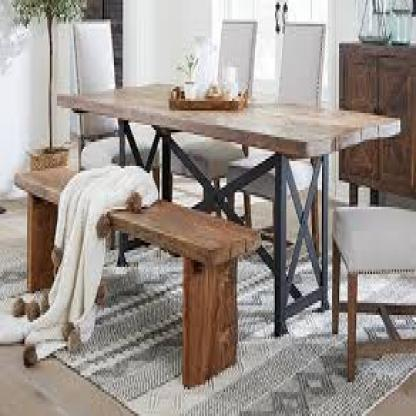Dining Table: (11, 14, 416, 404)
